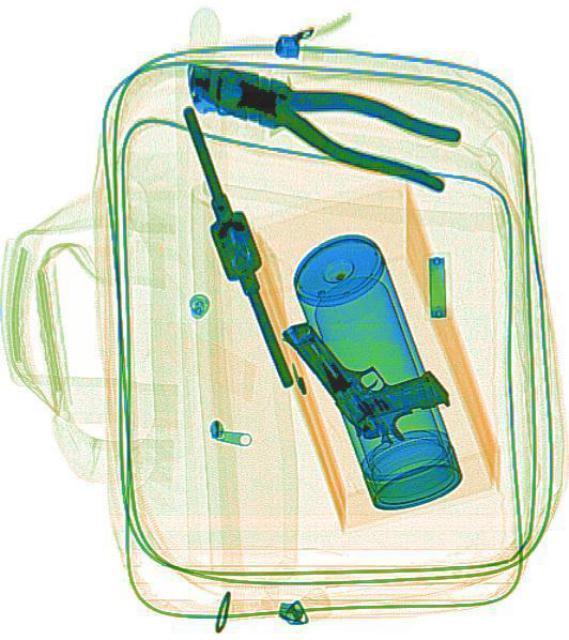Gun: (277, 270, 454, 462)
Pliers: (176, 43, 463, 194)
